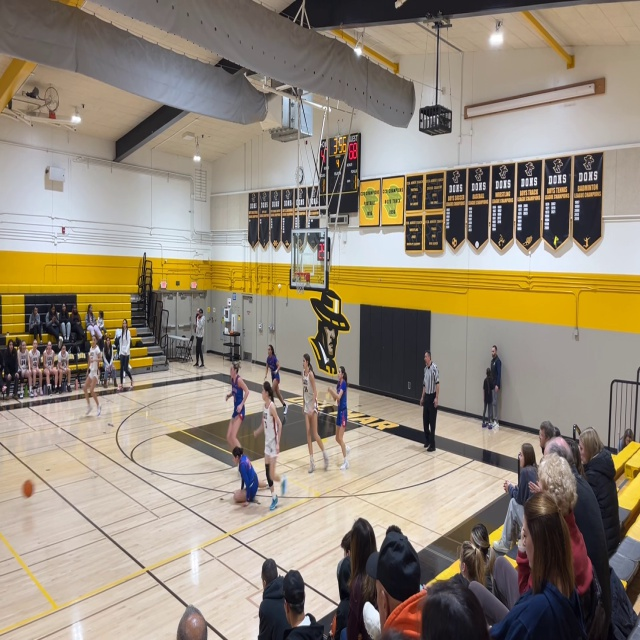Basketball: (22, 480, 33, 497)
